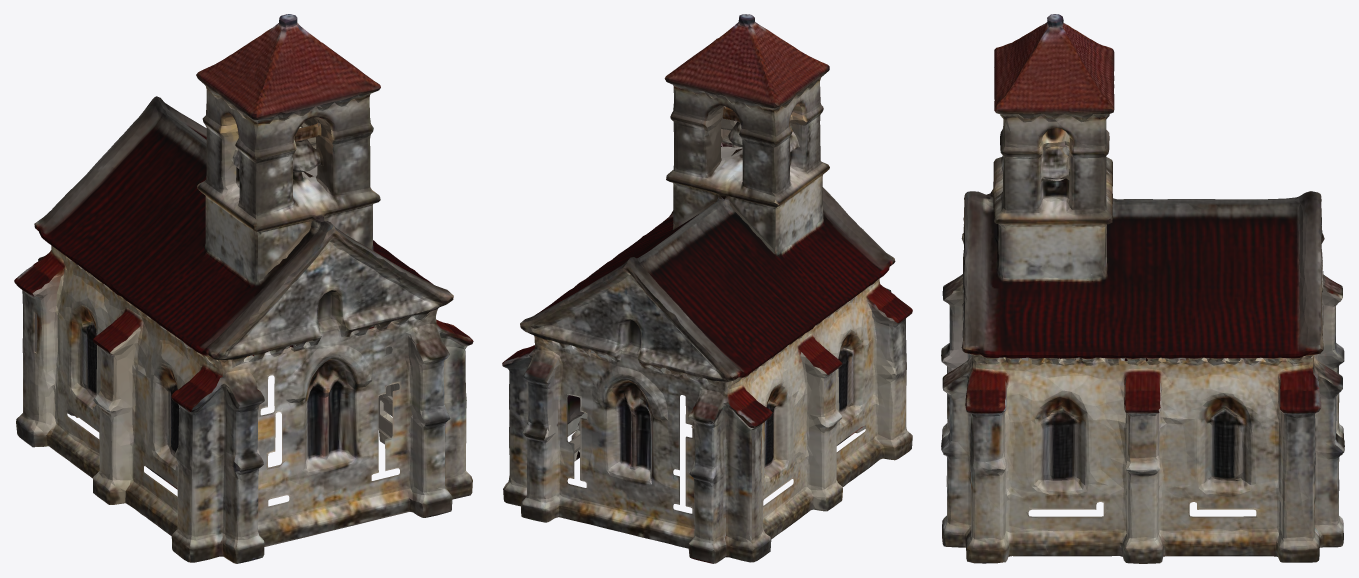
The model's file is mdl_church_001.glb.
The picture shows the model from 3 angles, left to right: view 1: azimuth 30°, elevation 25°; view 2: azimuth 150°, elevation 25°; view 3: azimuth 270°, elevation 25°; orthographic projection. The views are drawn at different scales.
Visible parts, largest first — view 1: tmp134krsxc.ply; view 2: tmp134krsxc.ply; view 3: tmp134krsxc.ply.
Boxes of the visible parts, x1=… form: tmp134krsxc.ply: x1=14, y1=14, x2=473, y2=563; tmp134krsxc.ply: x1=502, y1=14, x2=912, y2=563; tmp134krsxc.ply: x1=941, y1=14, x2=1344, y2=563.
Size of the model in its own units: 0.6208 by 0.9896 by 0.7565.
Materials: 1 (1 with a texture image).
